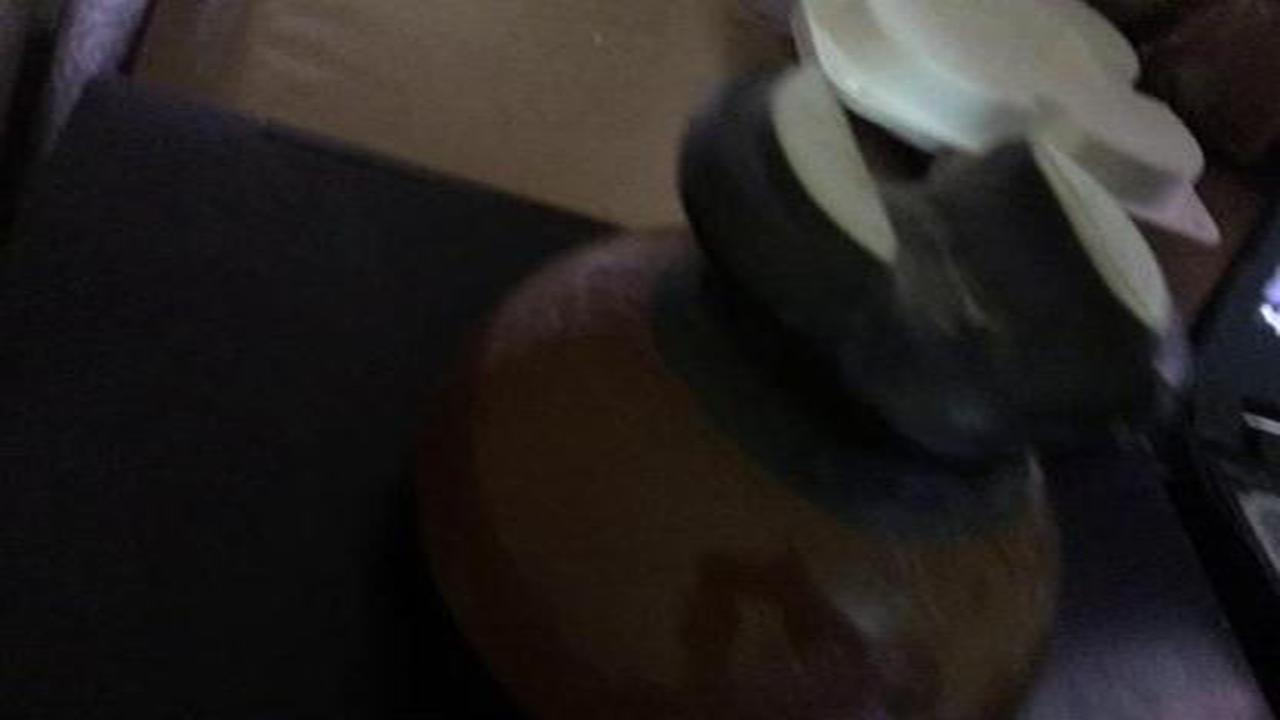insulator_pin: (397, 61, 1231, 720)
